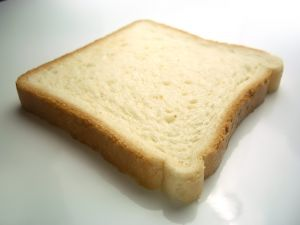slice of bread: (18, 13, 255, 198)
